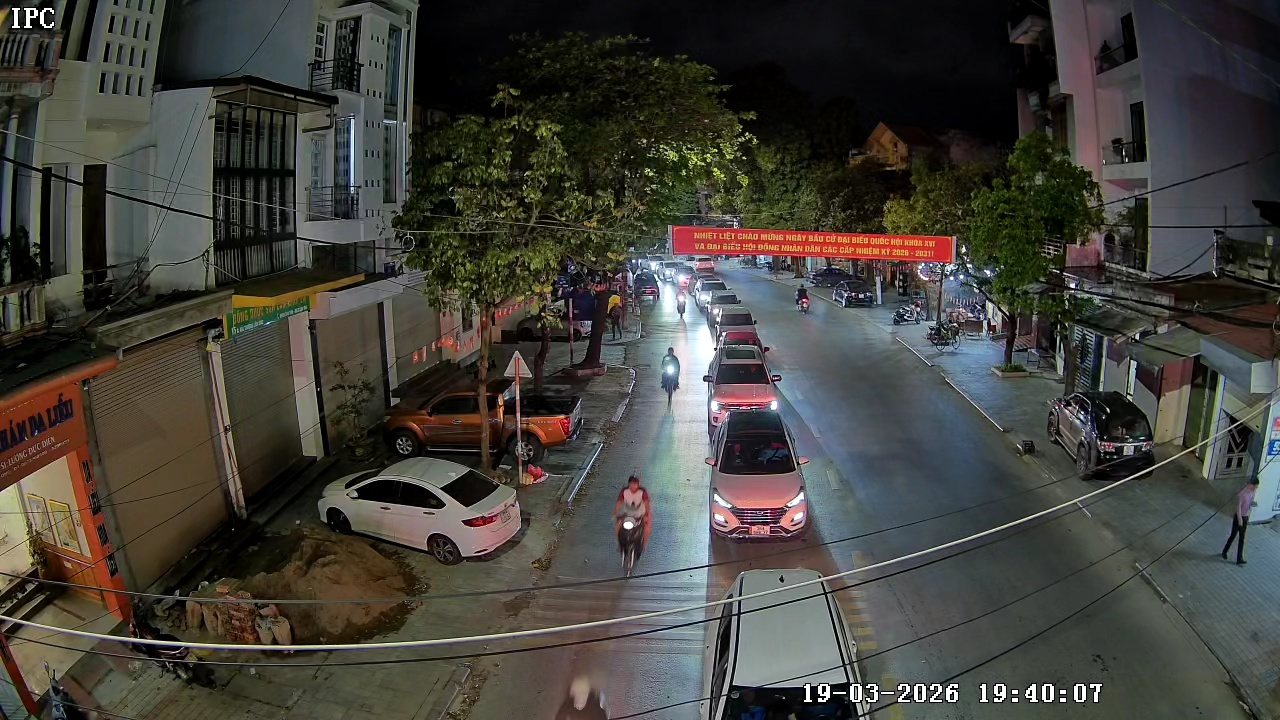bike: (611, 471, 655, 577)
car: (318, 454, 529, 561), (705, 407, 811, 543), (701, 351, 784, 435), (711, 304, 758, 348), (723, 329, 769, 366)
motorbike: (700, 563, 879, 719), (611, 470, 655, 576), (659, 344, 683, 399), (796, 285, 812, 313)
